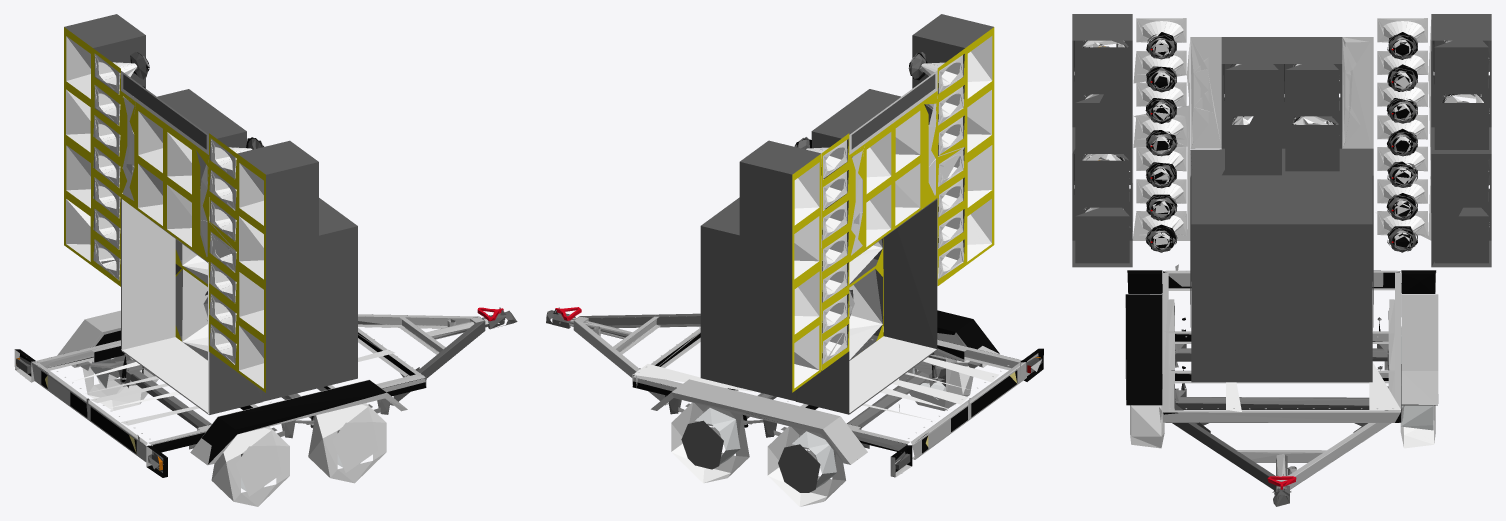
Rendered from paredao.glb.
3 views of the same model, side by side, from view 1: azimuth 30°, elevation 25°; view 2: azimuth 150°, elevation 25°; view 3: azimuth 270°, elevation 25° (orthographic). The views are drawn at different scales.
Bounding box in the file's own units: 3.38 × 2.71 × 2.77.
